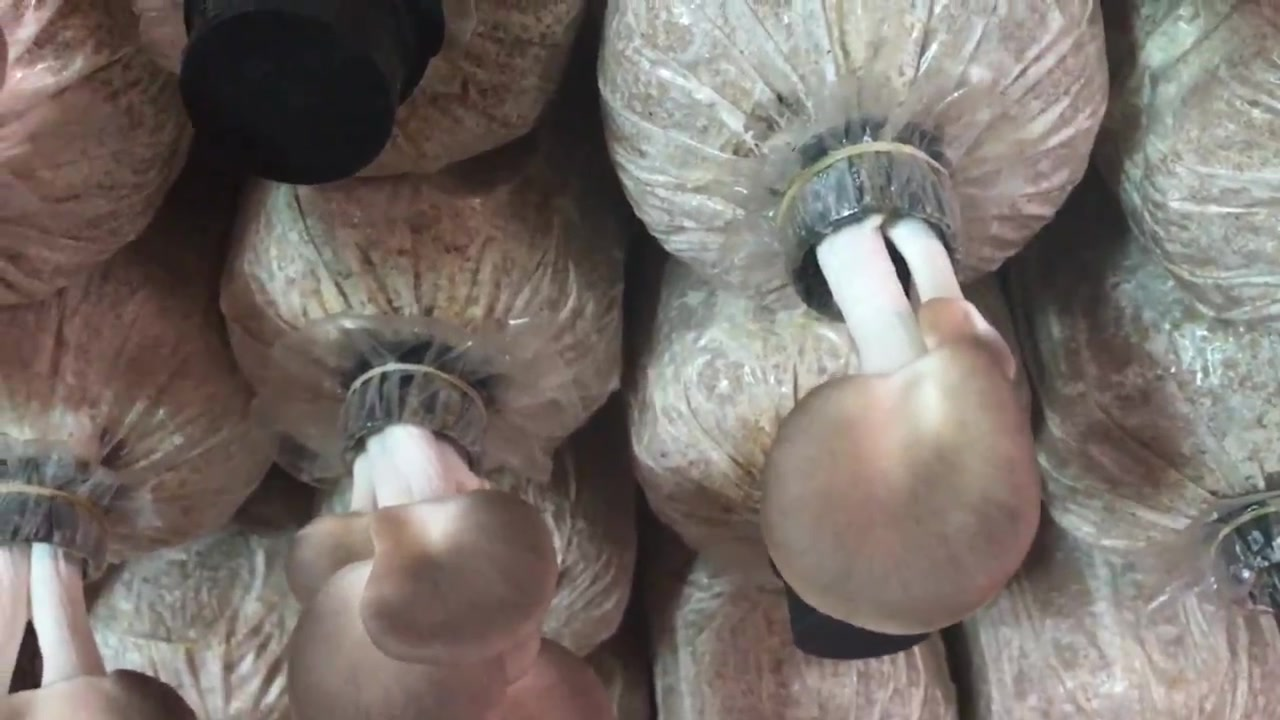nam: (759, 150, 1038, 637), (288, 366, 608, 720), (1, 452, 195, 719)
